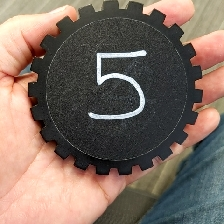gear: (25, 1, 204, 176)
